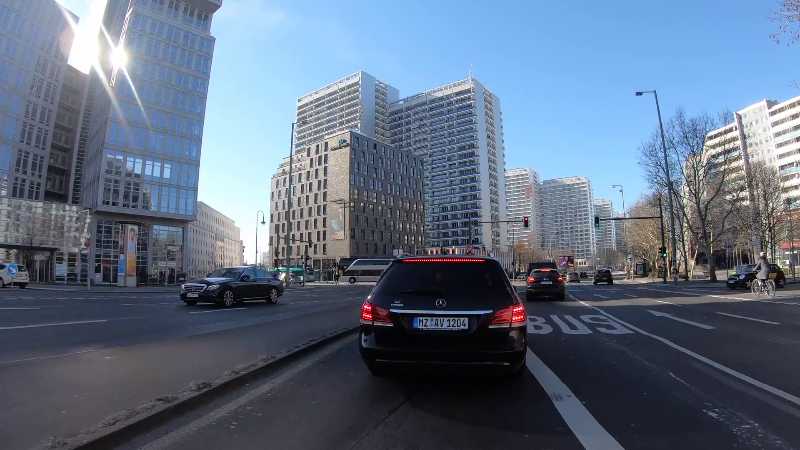Plate: (409, 314, 469, 330)
